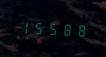eight: (60, 20, 73, 38), (74, 21, 87, 38)
five: (32, 18, 45, 36), (46, 19, 59, 37)
one: (18, 18, 31, 35)
